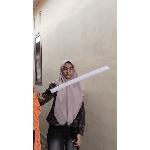Pedang: (44, 63, 112, 100)
